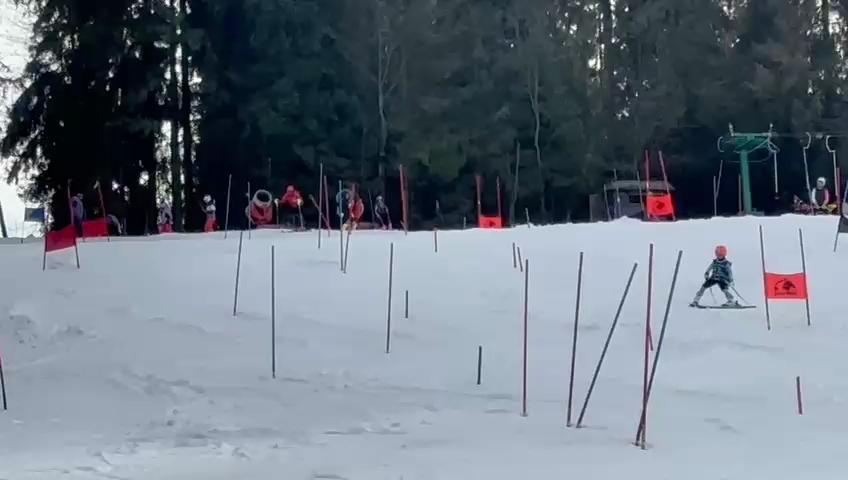gate: (580, 242, 637, 458), (634, 220, 681, 464), (788, 213, 824, 326), (567, 246, 584, 443), (654, 147, 692, 224), (753, 218, 773, 334), (626, 142, 655, 222), (268, 240, 284, 384), (229, 223, 249, 324), (382, 235, 396, 367), (90, 183, 114, 253), (519, 259, 529, 419), (492, 171, 517, 232), (66, 200, 83, 276), (787, 368, 809, 419), (314, 161, 326, 254), (395, 164, 410, 236), (220, 173, 234, 246), (471, 170, 485, 234), (471, 340, 486, 386), (510, 240, 526, 268), (403, 282, 413, 323), (431, 228, 440, 253)
